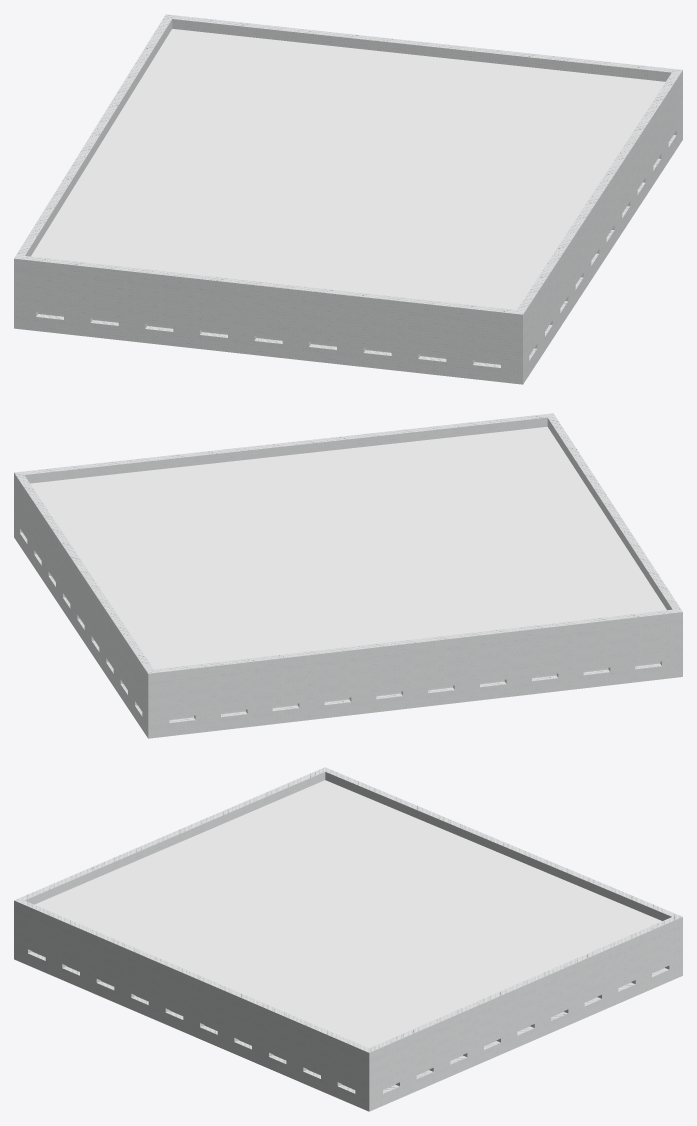
Rendered from clohbxo7a03ad4p02ughue99n_0.glb.
The picture shows the model from 3 angles, top to bottom: view 1: azimuth 30°, elevation 25°; view 2: azimuth 150°, elevation 25°; view 3: azimuth 270°, elevation 25°; orthographic projection. The views are drawn at different scales.
Visible parts, largest first — view 1: mesh_CityEnginePBRShader, mesh_Brick_1, mesh_Brick, mesh_Glass; view 2: mesh_CityEnginePBRShader, mesh_Brick_1, mesh_Brick, mesh_Glass; view 3: mesh_CityEnginePBRShader, mesh_Brick_1, mesh_Brick.
Part boxes in pixels (<box>): mesh_CityEnginePBRShader: <box>31,29,665,309</box>; mesh_Brick_1: <box>14,14,682,384</box>; mesh_Brick: <box>22,124,680,369</box>; mesh_Glass: <box>38,312,500,364</box>; mesh_CityEnginePBRShader: <box>30,426,666,669</box>; mesh_Brick_1: <box>14,413,682,738</box>; mesh_Brick: <box>16,523,674,724</box>; mesh_Glass: <box>169,661,660,720</box>; mesh_CityEnginePBRShader: <box>34,780,661,1048</box>; mesh_Brick_1: <box>14,767,682,1111</box>; mesh_Brick: <box>19,946,677,1097</box>.
Bounding box in the file's own units: 44.31 × 4.26 × 43.84.
Materials: 4 (2 with a texture image).
